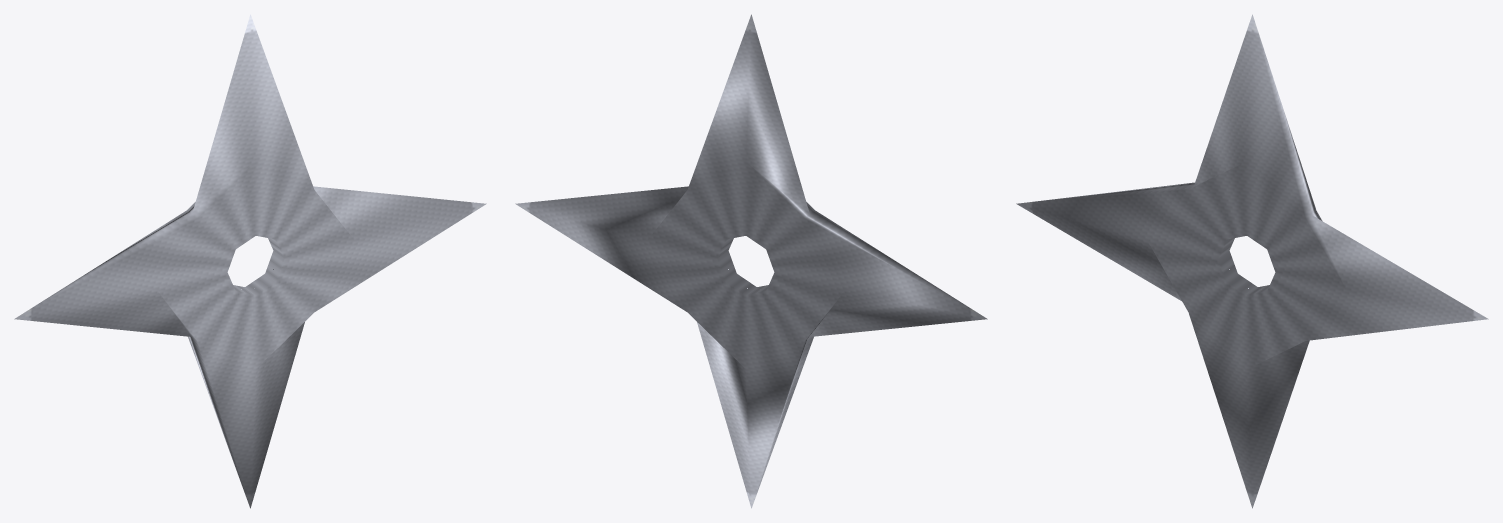
The model's file is shuriken.obj.
3 renders of one model, left to right at view 1: azimuth 30°, elevation 25°; view 2: azimuth 150°, elevation 25°; view 3: azimuth 330°, elevation 25°, orthographic.
Parts seen in each view (by area): view 1: Shuriken; view 2: Shuriken; view 3: Shuriken.
Part boxes in pixels (x1,y1,x2,y2): Shuriken: (14, 14, 486, 508); Shuriken: (515, 14, 987, 508); Shuriken: (1016, 14, 1488, 508).
Size of the model in its own units: 2 by 2 by 0.08.
1 material, 1 textured.
